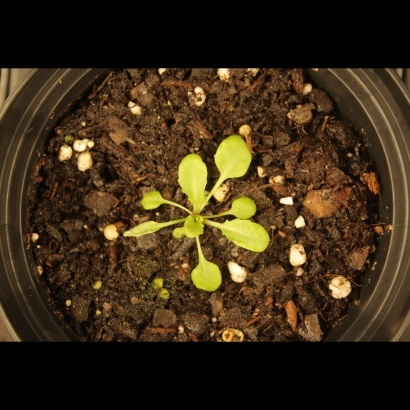leaf: (209, 129, 256, 186), (219, 213, 273, 258), (176, 147, 210, 210), (185, 256, 230, 297), (114, 218, 171, 244), (178, 213, 210, 241), (225, 196, 260, 220), (139, 186, 168, 213)
